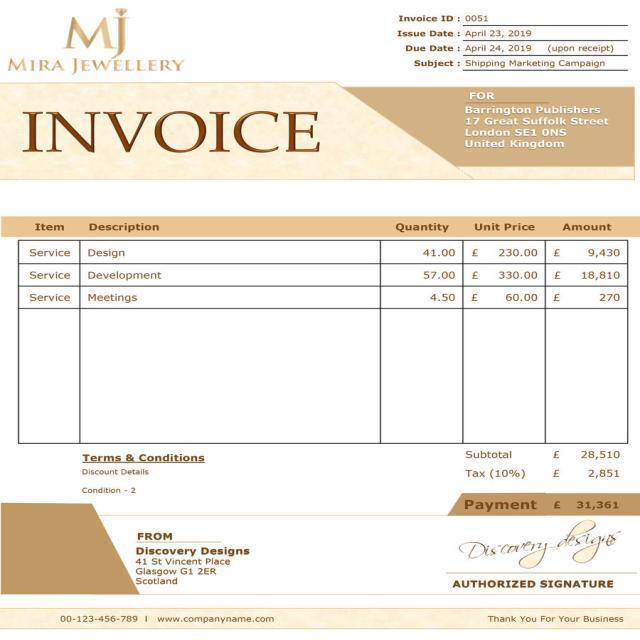paragraph: (18, 94, 342, 163), (384, 4, 633, 82), (1, 4, 210, 84), (438, 518, 631, 594), (454, 87, 621, 167), (453, 448, 632, 517), (116, 524, 262, 589), (76, 451, 216, 505), (52, 604, 293, 630), (482, 599, 631, 629)
table: (6, 203, 633, 322)
